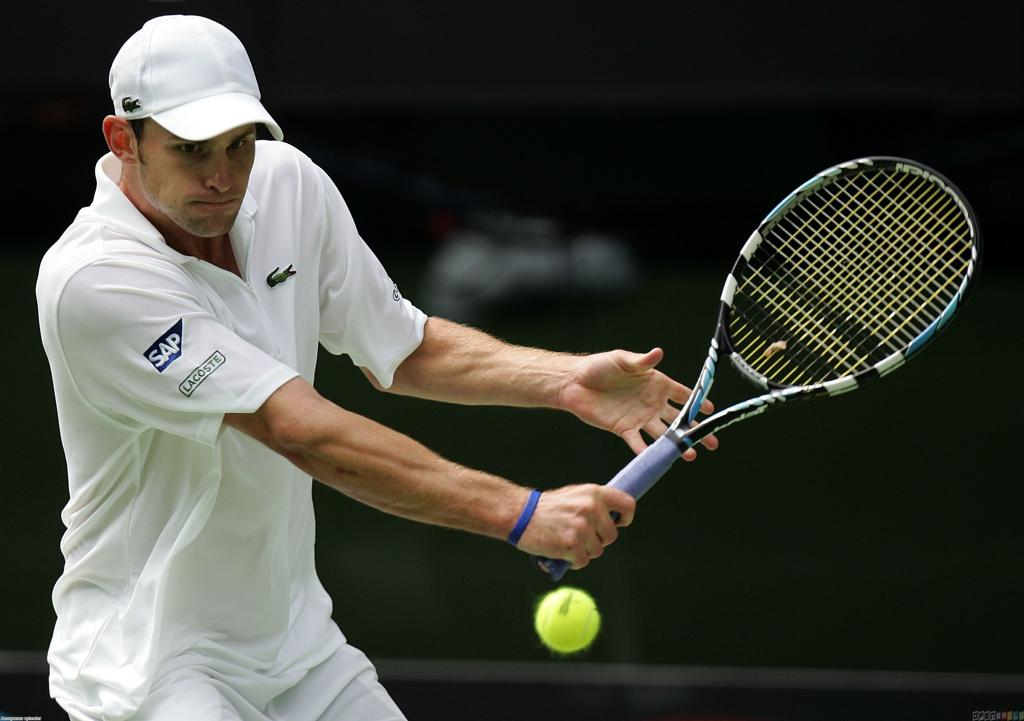face: (142, 106, 254, 238)
